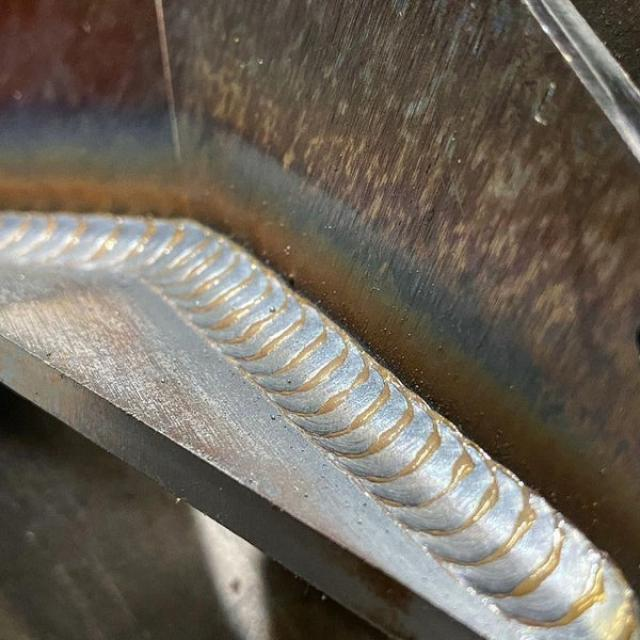Good Welding: (1, 214, 640, 640)
